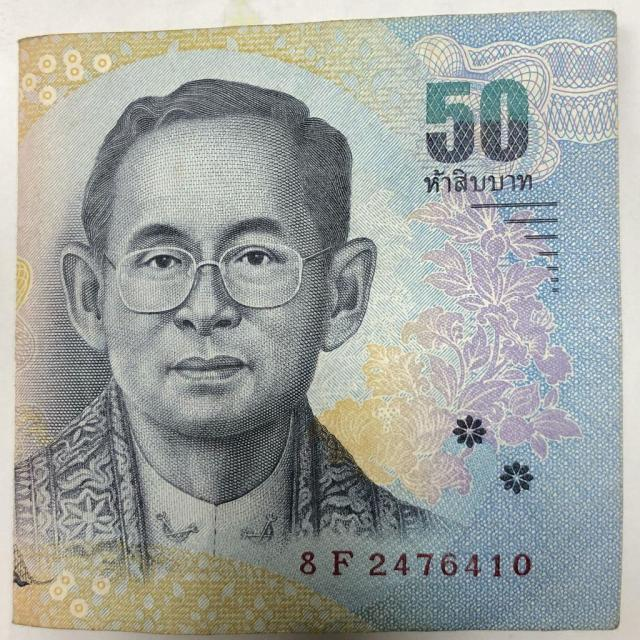THAI50: (12, 11, 624, 639)
